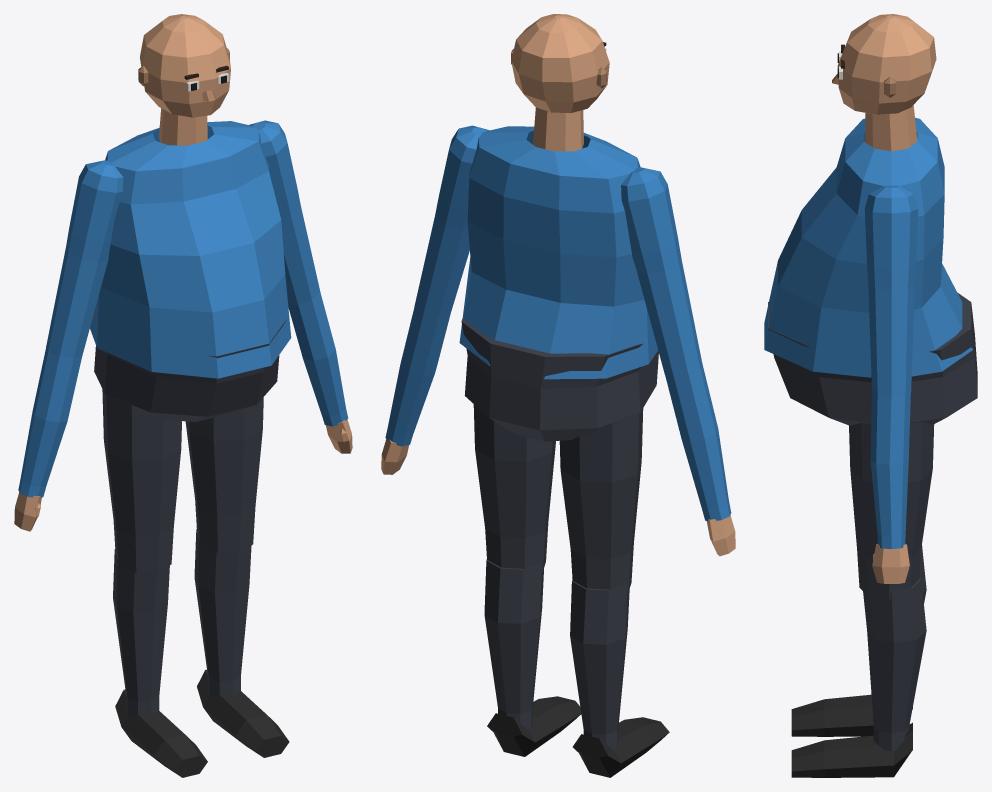
The model's file is adulte_h_fort.glb.
3 renders of one model, left to right at view 1: azimuth 30°, elevation 25°; view 2: azimuth 150°, elevation 25°; view 3: azimuth 270°, elevation 25°, orthographic. The views are drawn at different scales.
Parts seen in each view (by area): view 1: torse, jambe_d, tibia_d, tibia_g, tete, jambe_g, bras_d, bassin, avant_bras_d, bras_g, avant_bras_g; view 2: torse, bassin, jambe_d, tibia_d, tibia_g, jambe_g, tete, bras_d, bras_g, avant_bras_d, avant_bras_g; view 3: torse, tibia_g, tete, bras_g, bassin, jambe_g, avant_bras_g, tibia_d.
Part boxes in pixels (x1,y1,x2,y2): torse: [90, 121, 291, 378]; jambe_d: [102, 389, 181, 572]; tibia_d: [113, 549, 207, 777]; tibia_g: [194, 529, 289, 757]; tete: [138, 14, 230, 145]; jambe_g: [185, 397, 263, 552]; bras_d: [46, 160, 123, 357]; bassin: [94, 312, 286, 421]; avant_bras_d: [14, 349, 81, 531]; bras_g: [249, 120, 320, 304]; avant_bras_g: [288, 292, 352, 453]; torse: [459, 126, 657, 379]; bassin: [461, 317, 658, 441]; jambe_d: [559, 408, 643, 592]; tibia_d: [570, 580, 669, 777]; tibia_g: [484, 559, 581, 756]; jambe_g: [473, 404, 555, 571]; tete: [511, 14, 609, 151]; bras_d: [621, 167, 702, 376]; bras_g: [414, 125, 489, 319]; avant_bras_d: [665, 364, 735, 556]; avant_bras_g: [381, 308, 449, 474]; torse: [764, 117, 972, 377]; tibia_g: [791, 578, 926, 777]; tete: [832, 14, 936, 151]; bras_g: [864, 185, 918, 397]; bassin: [768, 292, 977, 425]; jambe_g: [849, 422, 934, 599]; avant_bras_g: [870, 391, 910, 583]; tibia_d: [791, 545, 926, 736].
Size of the model in its own units: 0.8448 by 1.74 by 0.4566.
1 material, 1 textured.
